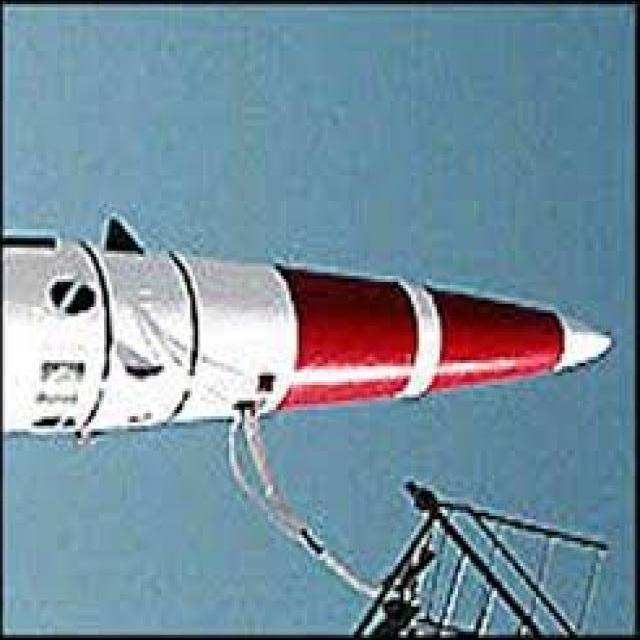Missile: (0, 242, 625, 445)
